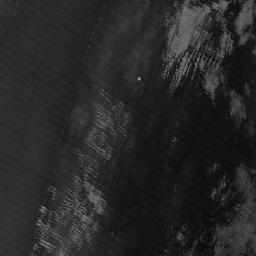Target: (136, 75, 142, 81)
